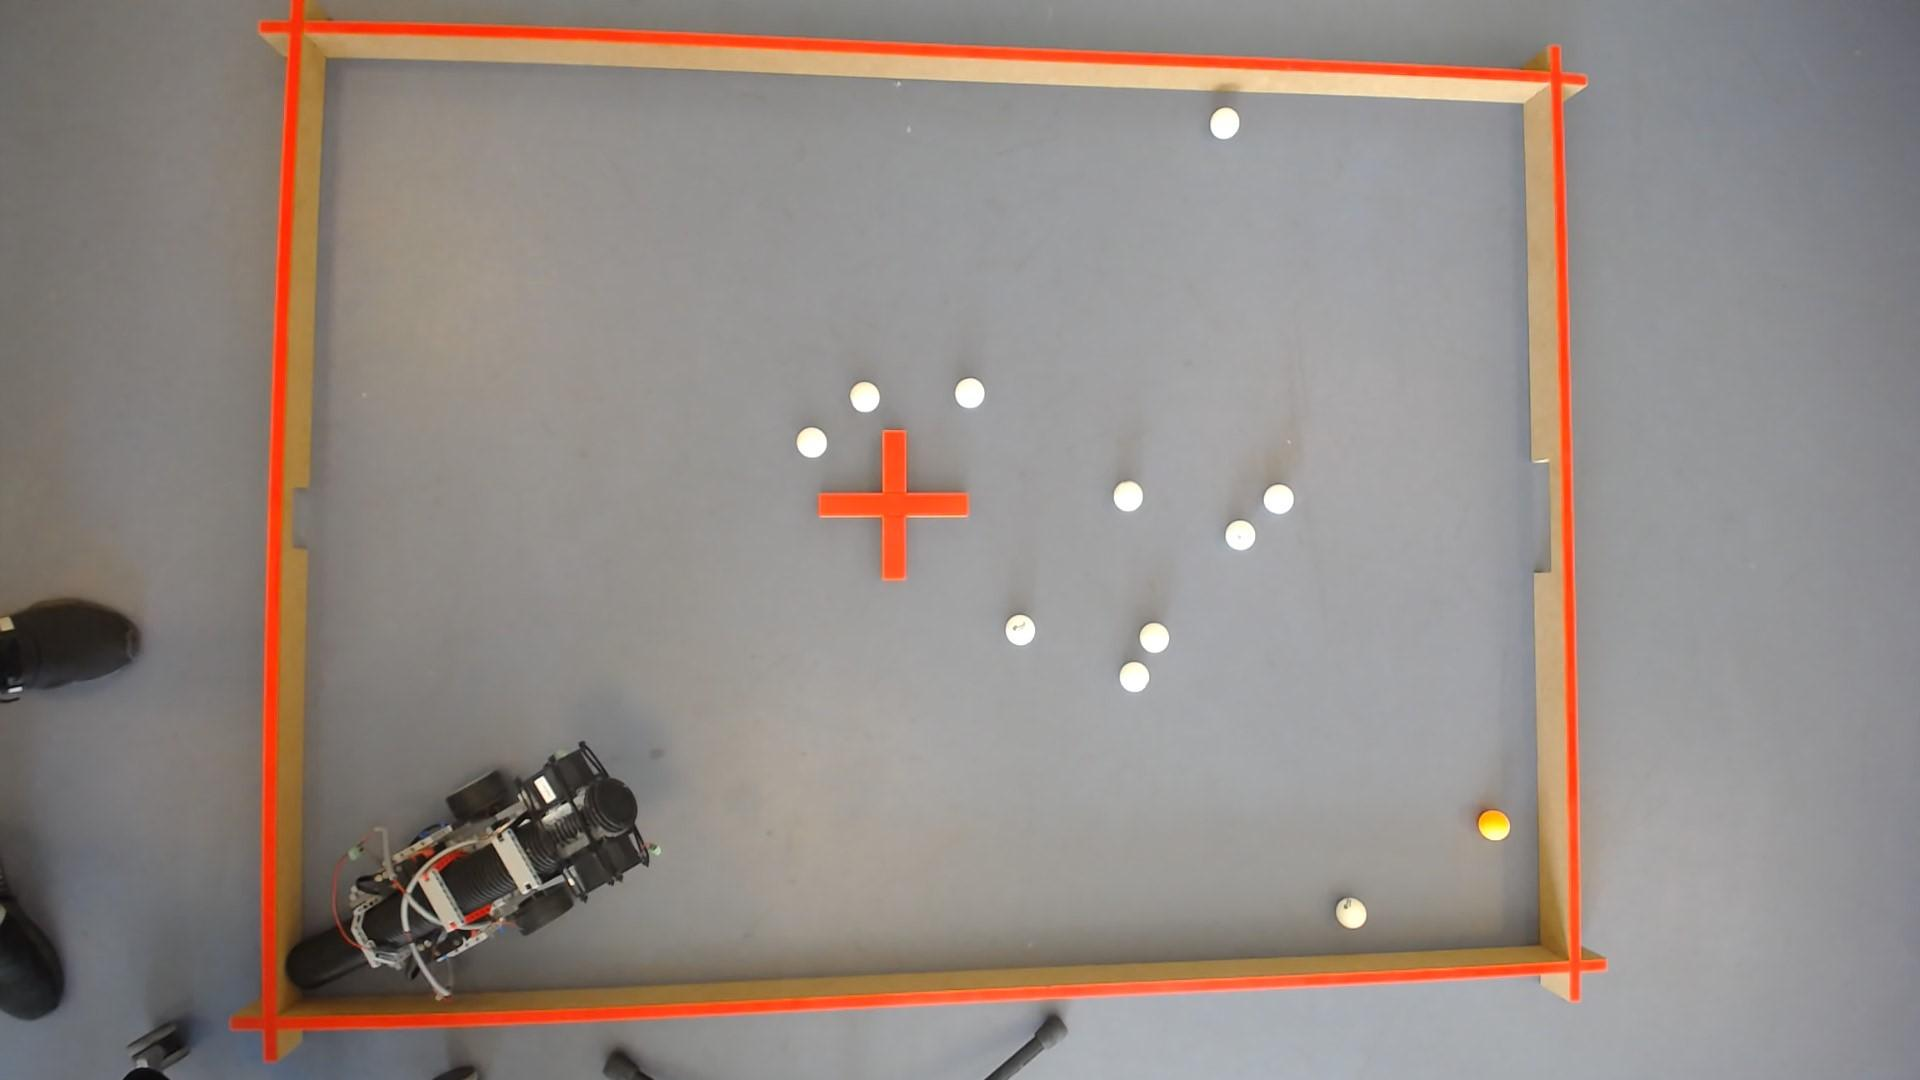orange: (1480, 810, 1513, 841)
robot: (282, 742, 654, 1000)
white: (1337, 897, 1369, 930), (1211, 104, 1241, 137), (955, 376, 986, 406), (796, 425, 827, 456), (1114, 479, 1145, 510), (1141, 621, 1171, 653), (1265, 483, 1296, 513), (1006, 615, 1036, 645), (1226, 520, 1257, 550), (851, 380, 880, 410), (1121, 662, 1150, 691)
